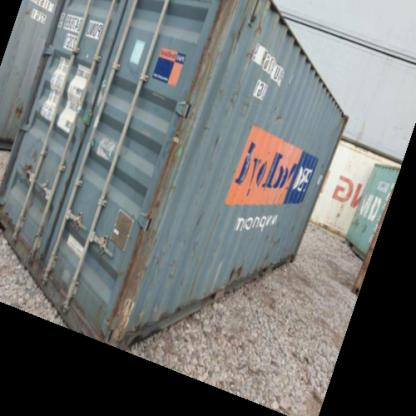Damage: (149, 238, 205, 286), (115, 294, 172, 337), (232, 3, 270, 66), (258, 214, 286, 270), (218, 84, 254, 119), (18, 142, 39, 182), (223, 257, 249, 282), (209, 126, 223, 163), (191, 206, 207, 232), (269, 103, 285, 125), (314, 156, 325, 172)
